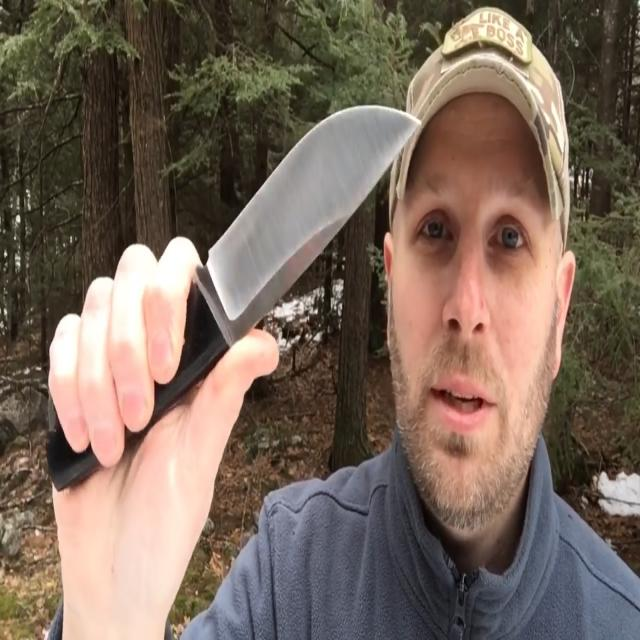knife: (204, 98, 426, 347)
